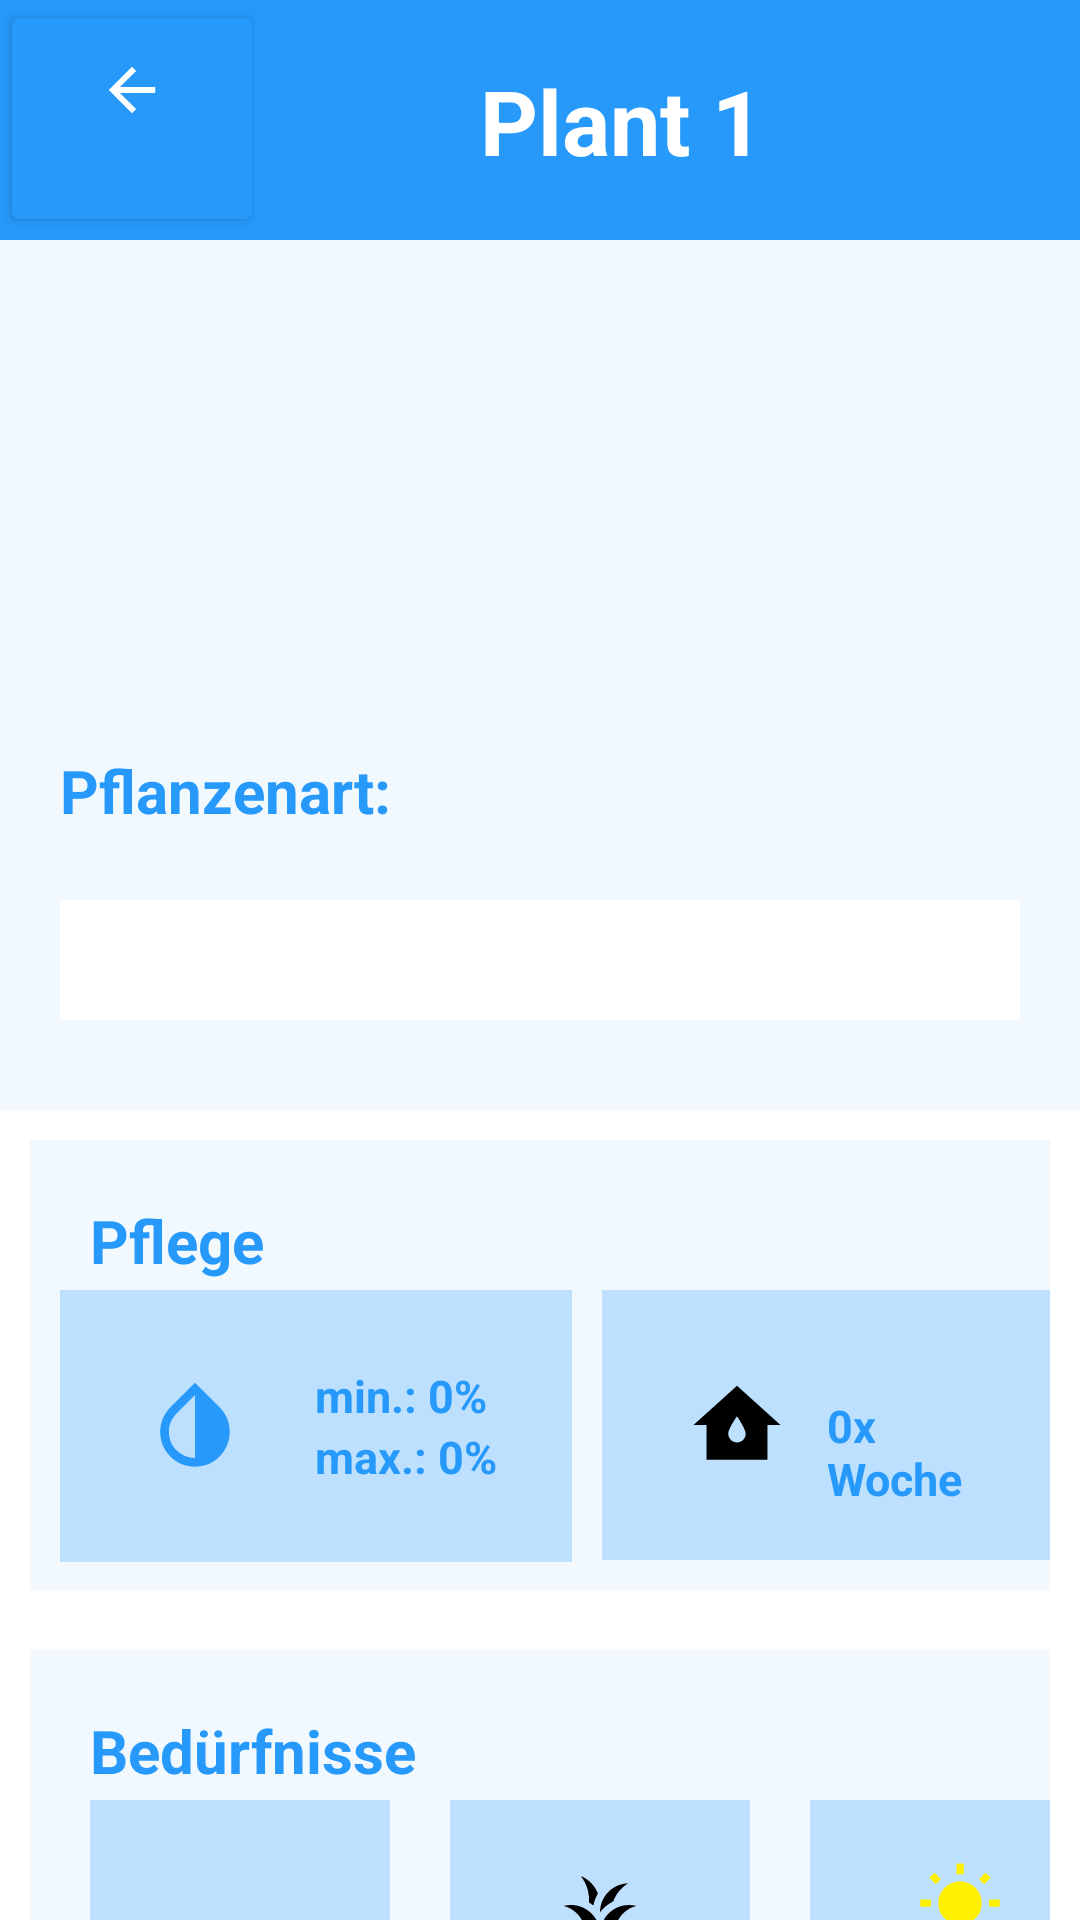

Named icons in this screenshot (1080*1920) and their centers, [x,y]:
drop: [195,1425]
